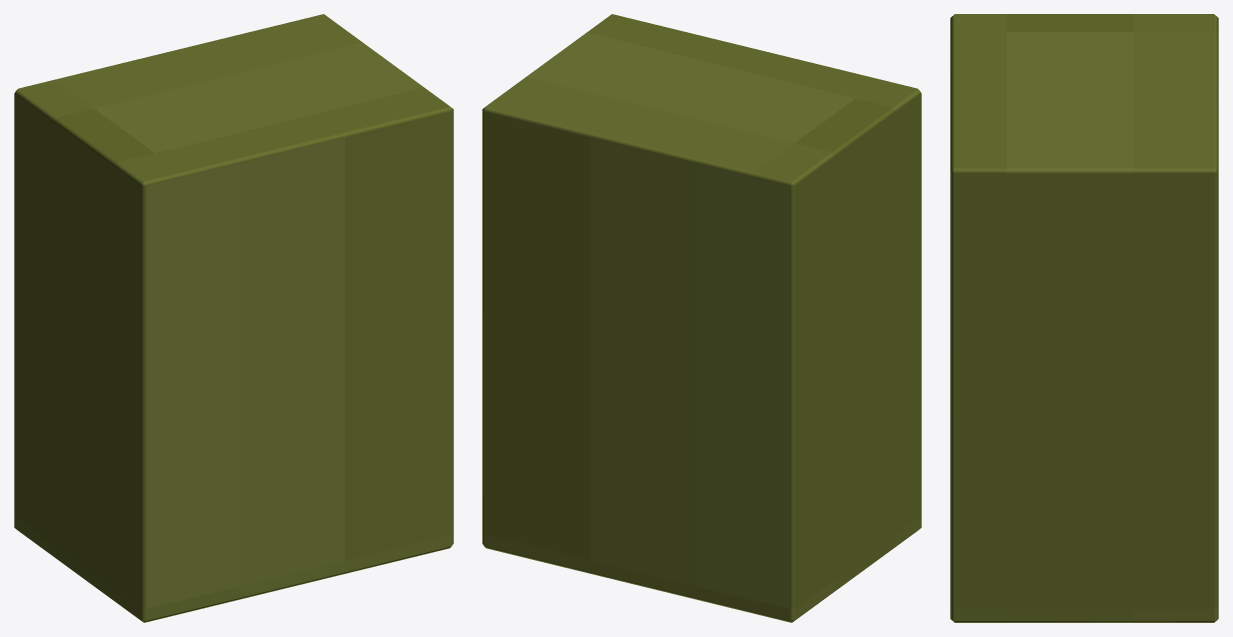
The model's file is Vine-segment.glb.
3 renders of one model, left to right at view 1: azimuth 30°, elevation 25°; view 2: azimuth 150°, elevation 25°; view 3: azimuth 270°, elevation 25°, orthographic. The views are drawn at different scales.
Parts seen in each view (by area): view 1: Vine-segment; view 2: Vine-segment; view 3: Vine-segment.
Part boxes in pixels (left/top/right/bottom): Vine-segment: left=14, top=14, right=453, bottom=622; Vine-segment: left=482, top=14, right=921, bottom=622; Vine-segment: left=950, top=14, right=1218, bottom=622.
Size of the model in its own units: 0.0578 by 0.078 by 0.0416.
Materials: 1 (1 with a texture image).
